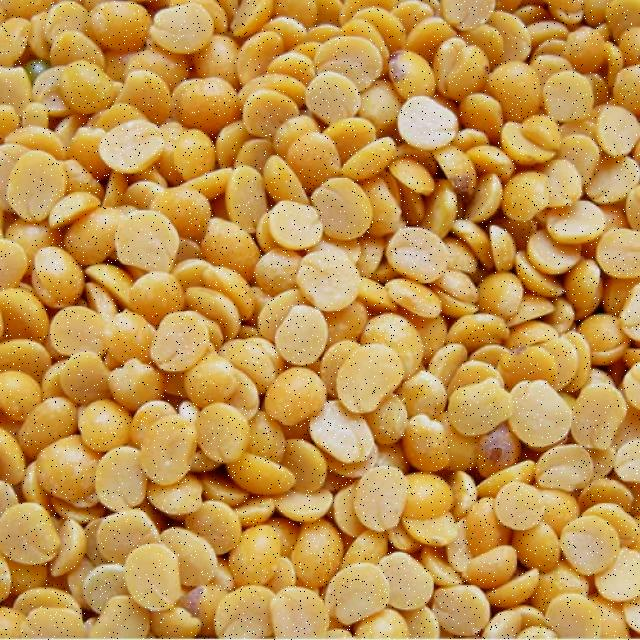NA: (0, 40, 640, 614), (200, 220, 261, 284)
